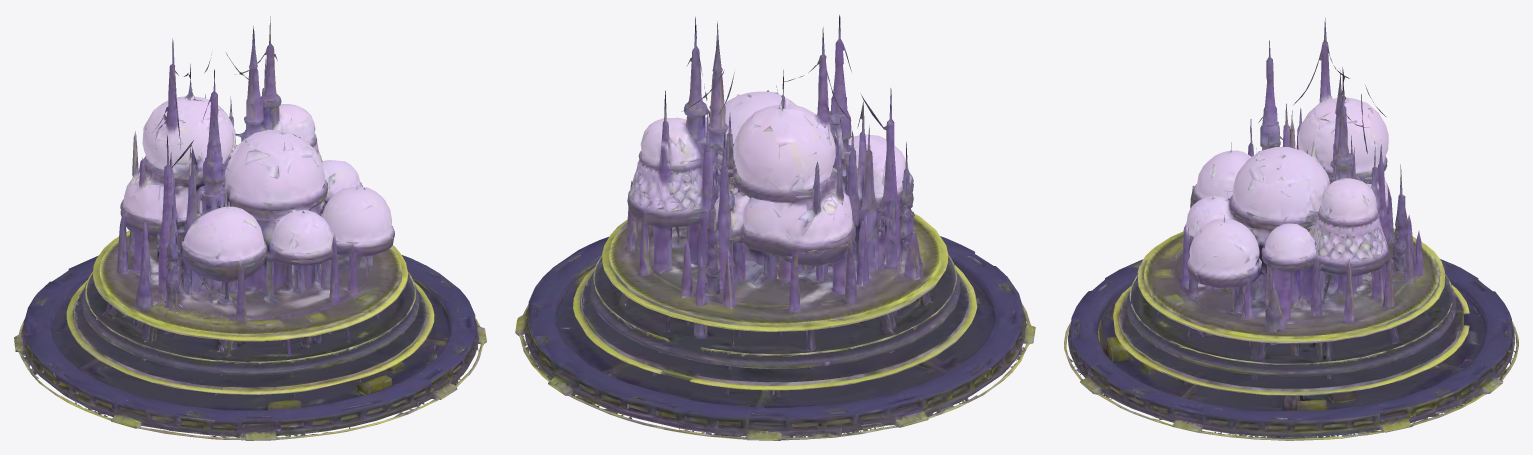
Rendered from colony-XHhPb87D.glb.
3 views of the same model, side by side, from view 1: azimuth 30°, elevation 25°; view 2: azimuth 150°, elevation 25°; view 3: azimuth 270°, elevation 25° (orthographic). The views are drawn at different scales.
Parts seen in each view (by area): view 1: Mesh_0; view 2: Mesh_0; view 3: Mesh_0.
Boxes of the visible parts, x1,y1,x2,y2 form: Mesh_0: (14, 16, 486, 440); Mesh_0: (515, 15, 1035, 440); Mesh_0: (1064, 18, 1518, 440).
Bounding box in the file's own units: 1.91 × 1.4 × 1.91.
Materials: 1 (1 with a texture image).
